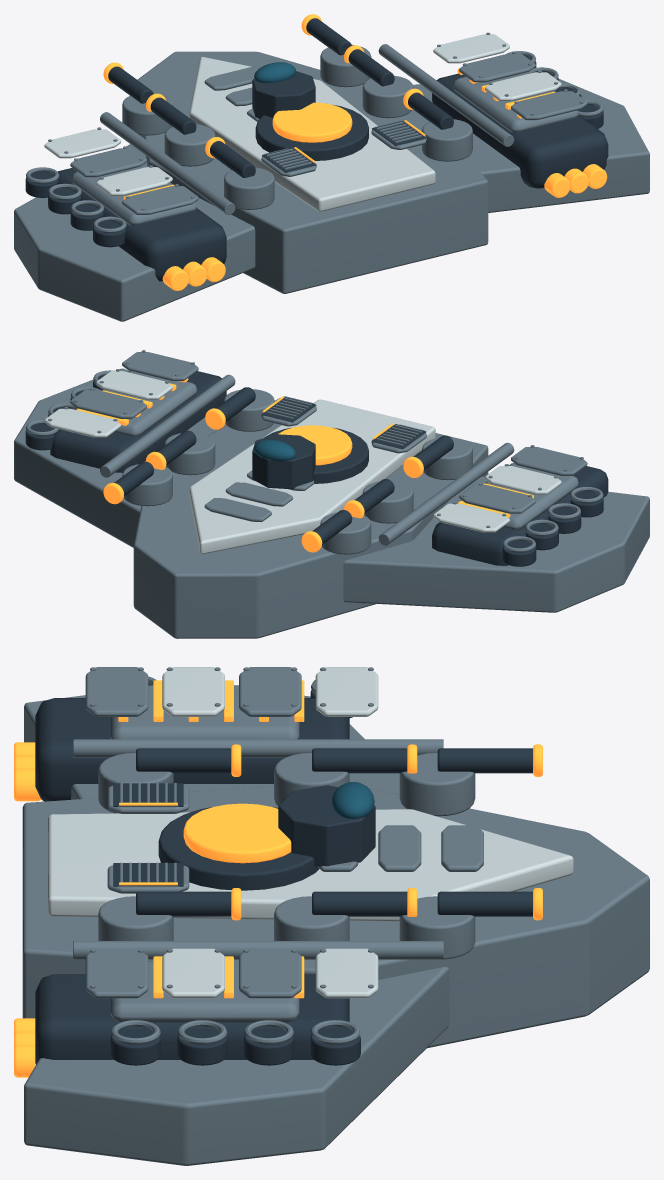
File: Leviathan.fbx
3 renders of one model, top to bottom at view 1: azimuth 30°, elevation 25°; view 2: azimuth 150°, elevation 25°; view 3: azimuth 270°, elevation 25°, orthographic. The views are drawn at different scales.
Parts seen in each view (by area): view 1: Command hull.002, Armored carrier wing.004, Dorsal armor.002, Armored carrier wing.005, Side reactor.005, Side reactor.004, Exposed core.002, Reactor housing.002, Armored coolant manifold.004, Armor panel.005, Armored coolant manifold.005, Command bridge.002 (+31 smaller); view 2: Command hull.002, Armored carrier wing.004, Dorsal armor.002, Armored carrier wing.005, Side reactor.005, Side reactor.004, Command bridge.002, Armored coolant manifold.004, Armored coolant manifold.005, Armor panel.005, Exposed core.002, Reactor housing.002 (+31 smaller); view 3: Command hull.002, Armored carrier wing.005, Dorsal armor.002, Side reactor.005, Side reactor.004, Command bridge.002, Exposed core.002, Armor panel.005, Reactor housing.002, Armored coolant manifold.004, Armor panel.004, Armored coolant manifold.005 (+37 smaller).
Part boxes in pixels (x1,y1,x2,y2): Command hull.002: [137, 51, 488, 293]; Armored carrier wing.004: [14, 144, 255, 321]; Dorsal armor.002: [189, 57, 435, 211]; Armored carrier wing.005: [413, 79, 649, 212]; Side reactor.005: [432, 73, 608, 188]; Side reactor.004: [54, 168, 226, 281]; Exposed core.002: [272, 102, 352, 142]; Reactor housing.002: [255, 104, 368, 160]; Armored coolant manifold.004: [100, 112, 235, 214]; Armor panel.005: [453, 72, 578, 132]; Armored coolant manifold.005: [378, 44, 514, 146]; Command bridge.002: [252, 71, 315, 118]; Command hull.002: [133, 396, 488, 638]; Armored carrier wing.004: [343, 476, 649, 612]; Dorsal armor.002: [189, 399, 435, 554]; Armored carrier wing.005: [14, 368, 226, 547]; Side reactor.005: [50, 371, 226, 472]; Side reactor.004: [432, 466, 608, 565]; Command bridge.002: [252, 434, 315, 489]; Armored coolant manifold.004: [378, 442, 514, 545]; Armored coolant manifold.005: [100, 374, 235, 477]; Armor panel.005: [103, 370, 197, 437]; Exposed core.002: [278, 425, 352, 465]; Reactor housing.002: [264, 427, 368, 483]; Command hull.002: [22, 786, 649, 1048]; Armored carrier wing.005: [24, 967, 449, 1165]; Dorsal armor.002: [48, 809, 573, 921]; Side reactor.005: [35, 974, 349, 1064]; Side reactor.004: [35, 698, 349, 801]; Command bridge.002: [278, 785, 375, 866]; Exposed core.002: [183, 803, 291, 863]; Armor panel.005: [110, 961, 299, 1022]; Reactor housing.002: [158, 807, 319, 890]; Armored coolant manifold.004: [73, 739, 443, 757]; Armor panel.004: [110, 685, 299, 739]; Armored coolant manifold.005: [73, 941, 443, 959].
Bounding box in the file's own units: 799 × 162 × 506.
